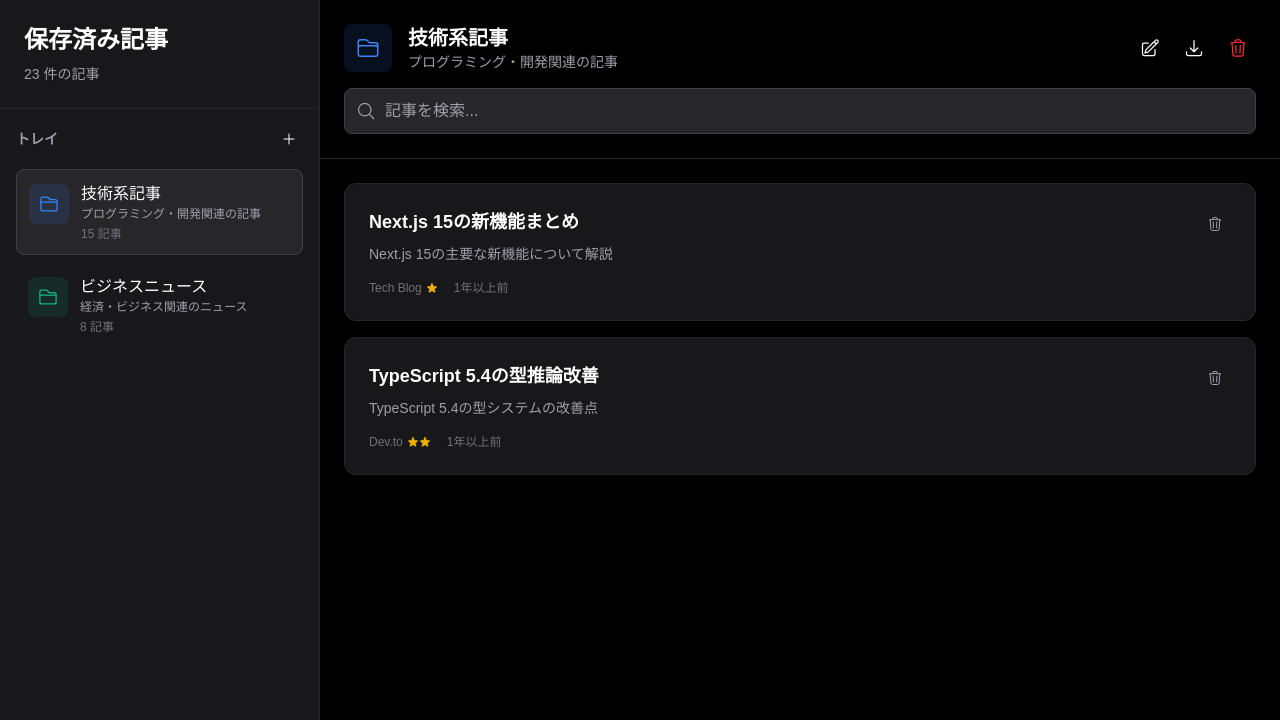
Test case: SavedArticlesPage › should switch between trays
expect the heading "保存済み記事" is shown: met, box [24, 26, 168, 53]
expect the heading "Next.js 15の新機能まとめ" is shown: met, box [369, 212, 579, 232]
Click on business news tray
What coordinates should you click on to do the following:
click the heading "ビジネスニュース"
I would click on:
 (144, 286)
Its box is [80, 278, 207, 295].
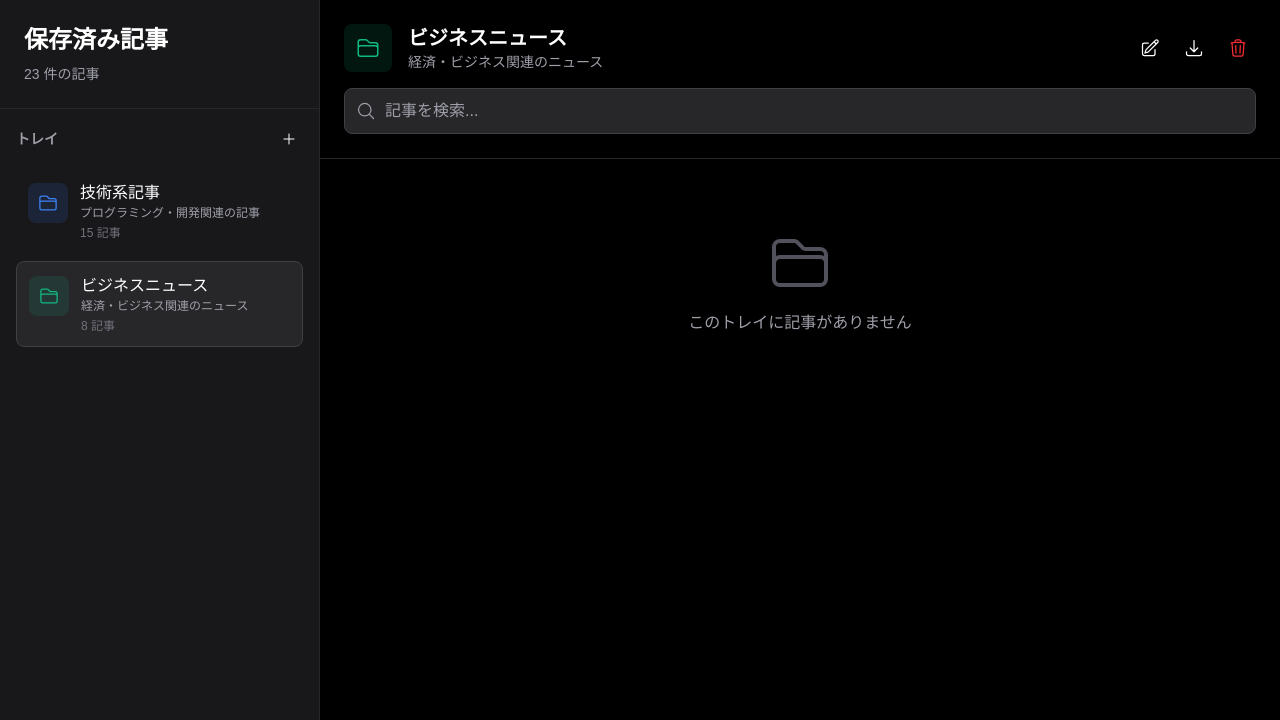
expect the heading "Next.js 15の新機能まとめ" is gone: met
expect the text "このトレイに記事がありません" is shown: met, box [688, 314, 912, 331]
